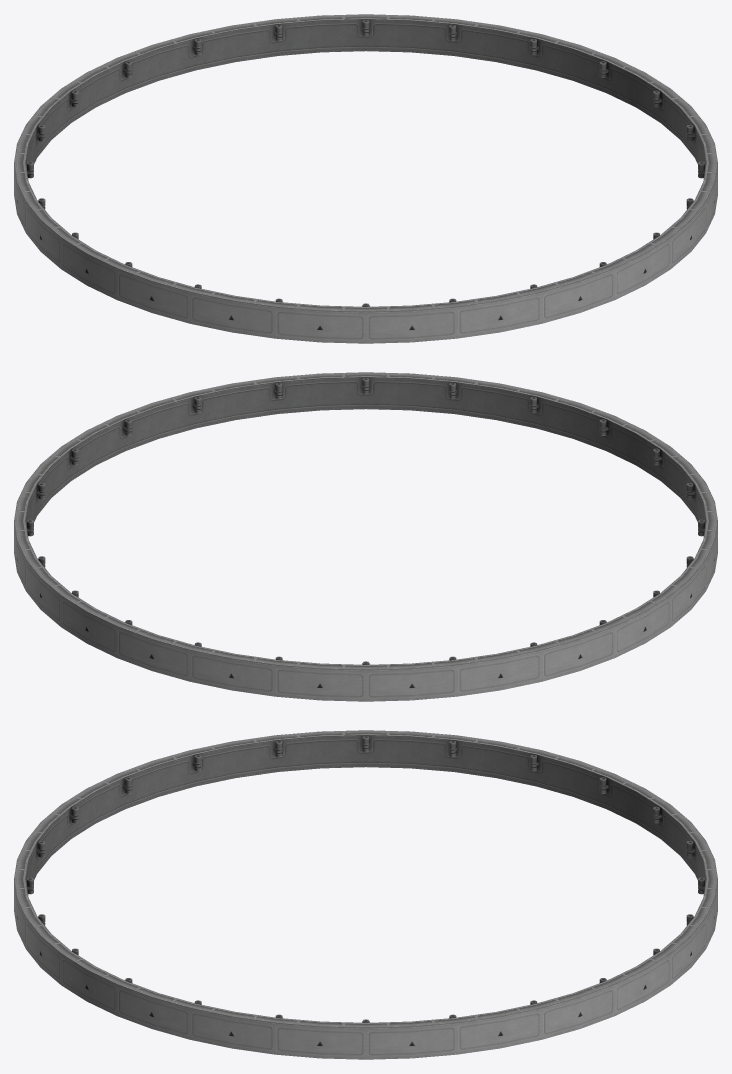
File: castor_decoupler_s6_1.obj
The picture shows the model from 3 angles, top to bottom: view 1: azimuth 30°, elevation 25°; view 2: azimuth 150°, elevation 25°; view 3: azimuth 270°, elevation 25°; orthographic projection.
Parts seen in each view (by area): view 1: mesh2; view 2: mesh2; view 3: mesh2.
Boxes of the visible parts, left/top/right/bottom form: mesh2: left=14, top=14, right=717, bottom=343; mesh2: left=14, top=372, right=717, bottom=701; mesh2: left=14, top=730, right=717, bottom=1059.
Bounding box in the file's own units: 7.5 × 0.375 × 7.5.
Materials: 1 (1 with a texture image).
